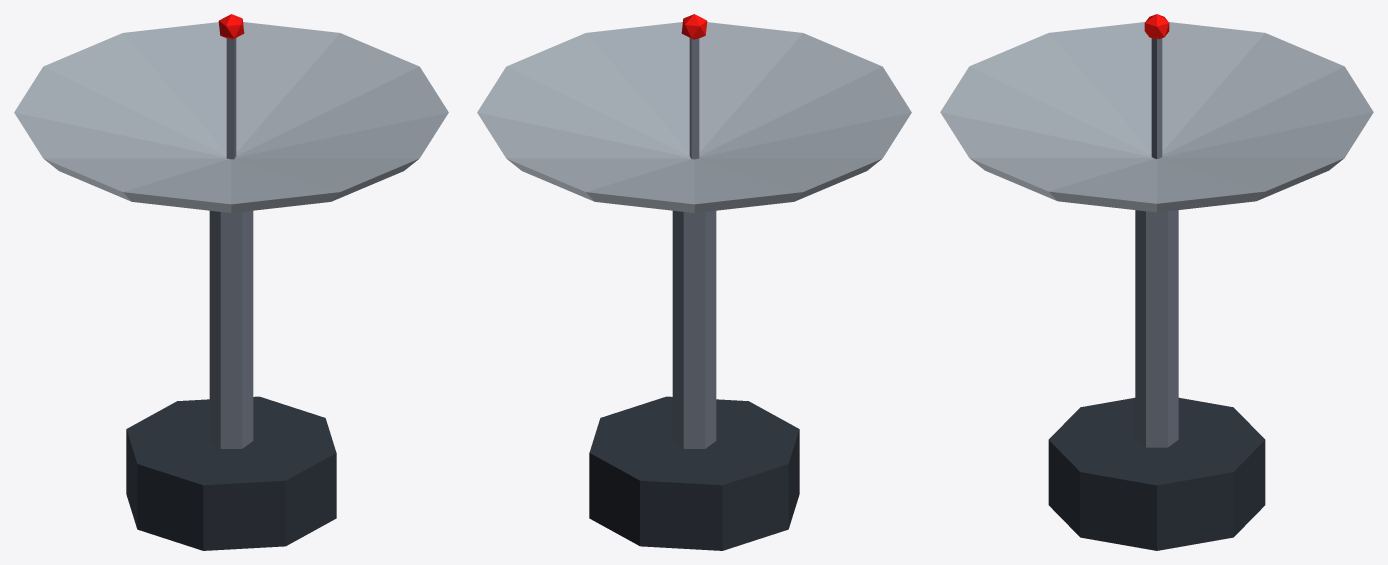
Rendered from satellite_dish.obj.
3 renders of one model, left to right at view 1: azimuth 30°, elevation 25°; view 2: azimuth 150°, elevation 25°; view 3: azimuth 270°, elevation 25°, orthographic.
Parts seen in each view (by area): view 1: satellite_dish; view 2: satellite_dish; view 3: satellite_dish.
Part boxes in pixels (x1,y1,x2,y2): satellite_dish: (14, 14, 448, 550); satellite_dish: (477, 14, 911, 550); satellite_dish: (940, 14, 1373, 550).
Bounding box in the file's own units: 1.2 × 1.5 × 1.2.
